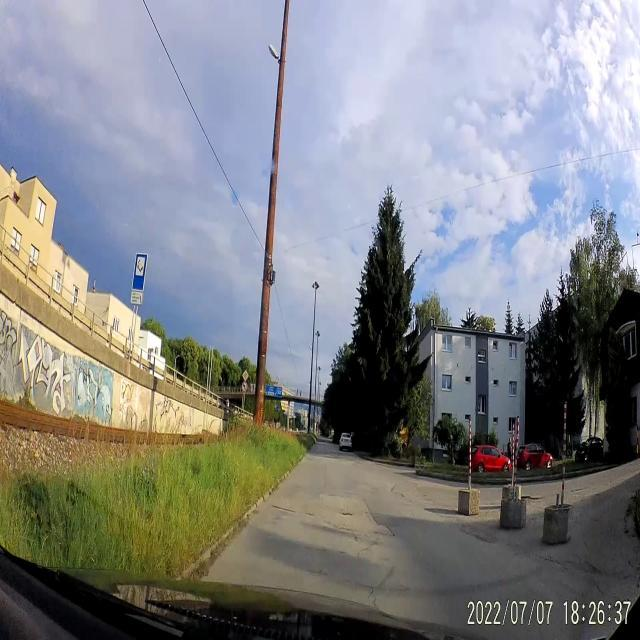Pothole: (266, 504, 299, 518), (342, 511, 353, 523)
